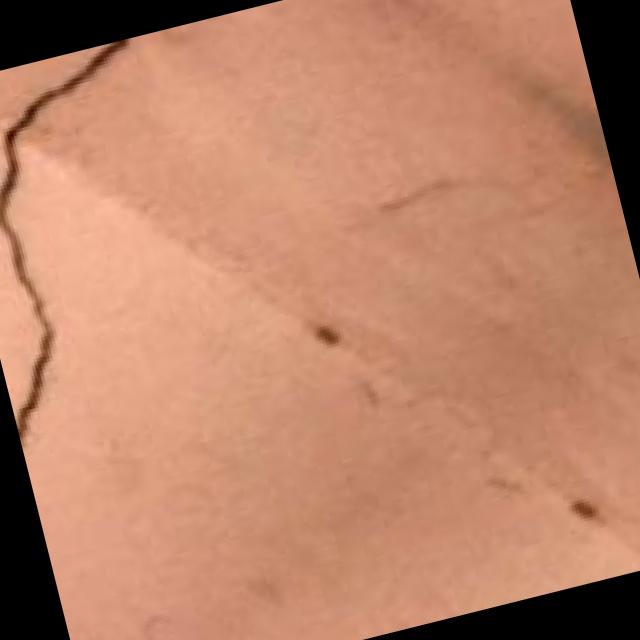crack: (0, 41, 212, 477)
